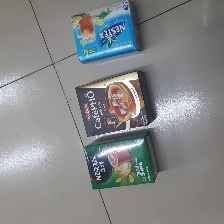CF pho: (75, 70, 156, 137)
Nes Rang: (84, 137, 158, 190)
Nestea: (71, 1, 142, 63)
